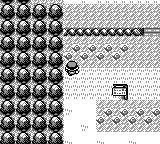leer: (113, 84, 128, 100)
main: (65, 61, 79, 75)
no-caminable: (0, 0, 63, 144)
salto: (65, 28, 144, 36)
